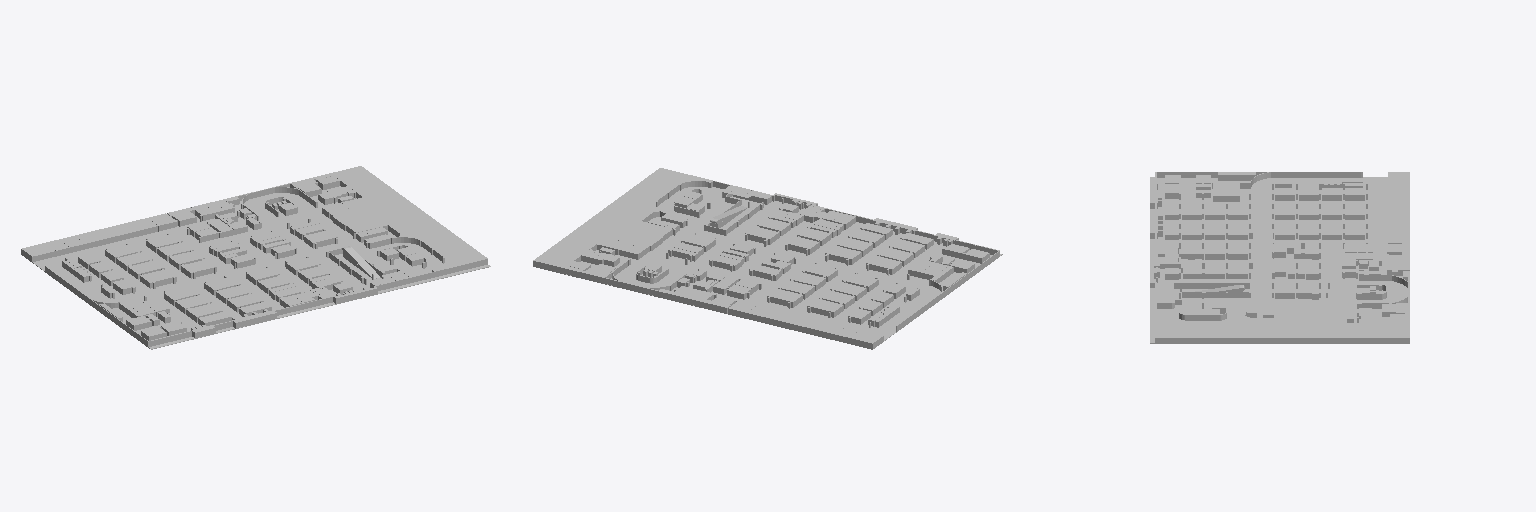
The model's file is parking1.obj.
3 renders of one model, left to right at view 1: azimuth 30°, elevation 25°; view 2: azimuth 150°, elevation 25°; view 3: azimuth 270°, elevation 25°, orthographic.
Parts seen in each view (by area): view 1: polySurface145; view 2: polySurface145; view 3: polySurface145.
Part boxes in pixels (x1,y1,x2,y2): polySurface145: (21,166,490,349); polySurface145: (533,168,1002,349); polySurface145: (1150,172,1409,343).
Bounding box in the file's own units: 36.56 × 1 × 24.18.